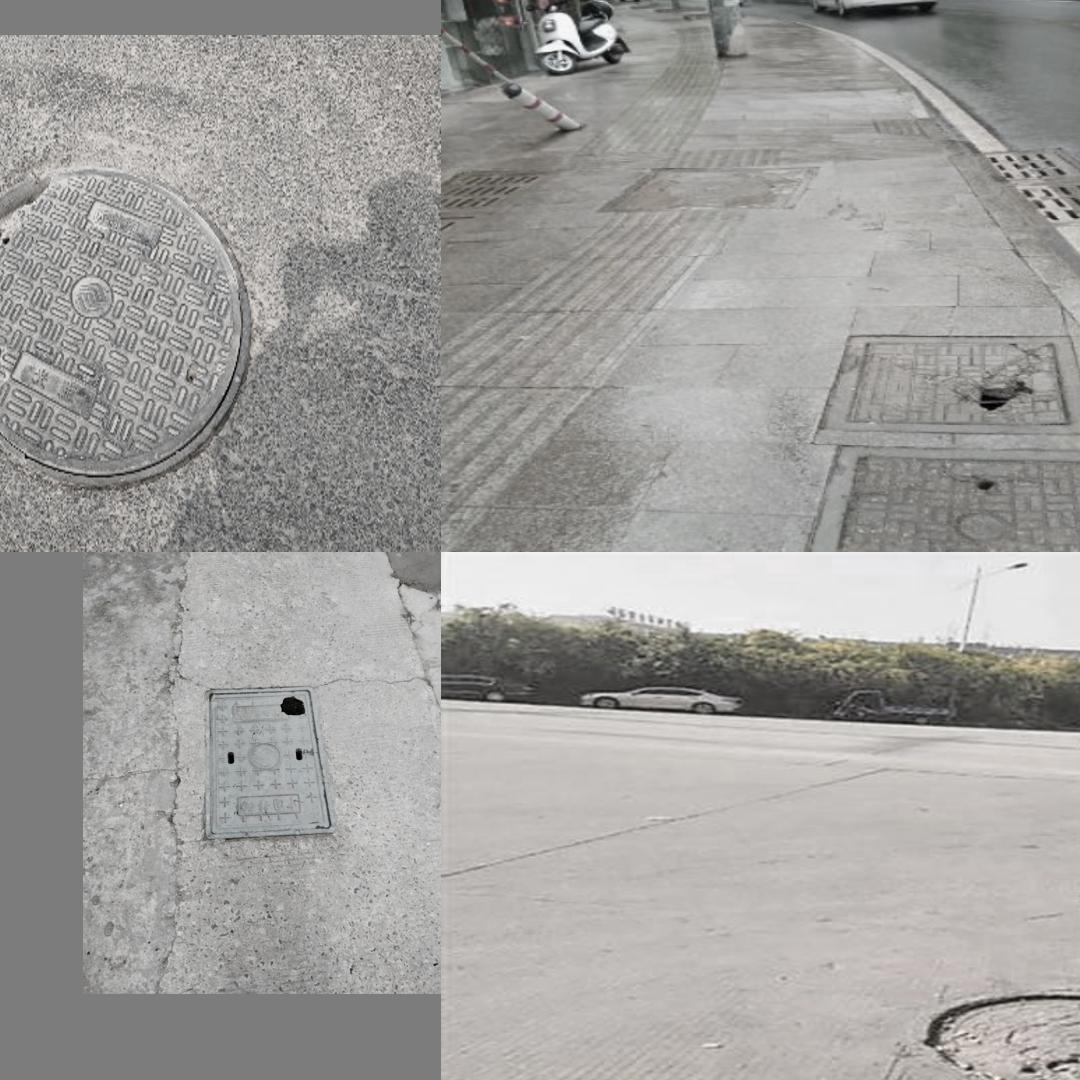broke: (0, 165, 252, 488), (802, 445, 1080, 552), (811, 334, 1080, 431), (886, 968, 1080, 1080), (203, 685, 336, 838)
